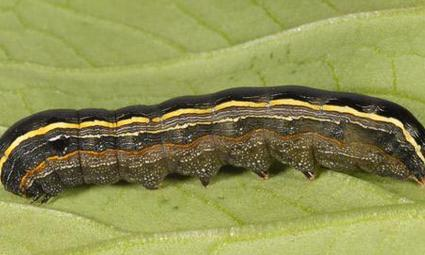caterpillars: (0, 65, 425, 223)
